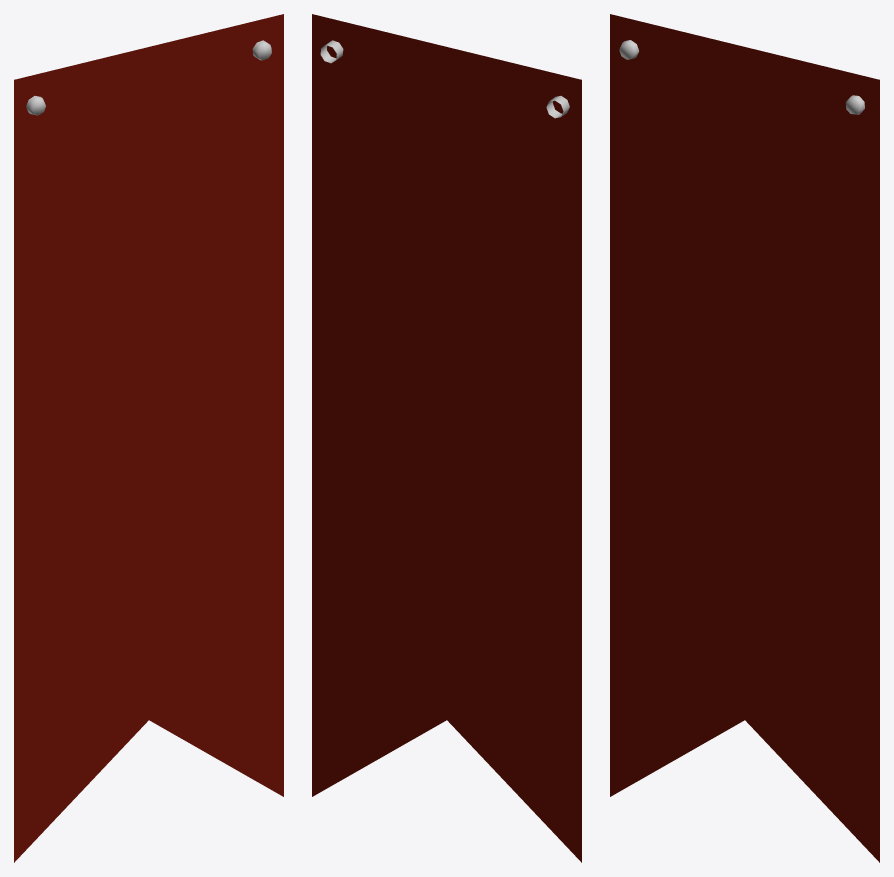
Rendered from Banner_1_Cloth.gltf.
3 views of the same model, side by side, from view 1: azimuth 30°, elevation 25°; view 2: azimuth 150°, elevation 25°; view 3: azimuth 330°, elevation 25° (orthographic).
Visible parts, largest first — view 1: Banner_1_Cloth; view 2: Banner_1_Cloth; view 3: Banner_1_Cloth.
Part boxes in pixels (bbox=[...]): Banner_1_Cloth: bbox=[14, 14, 283, 862]; Banner_1_Cloth: bbox=[312, 14, 581, 862]; Banner_1_Cloth: bbox=[610, 14, 879, 862].
Size of the model in its own units: 0.8102 by 2.25 by 0.0568.
